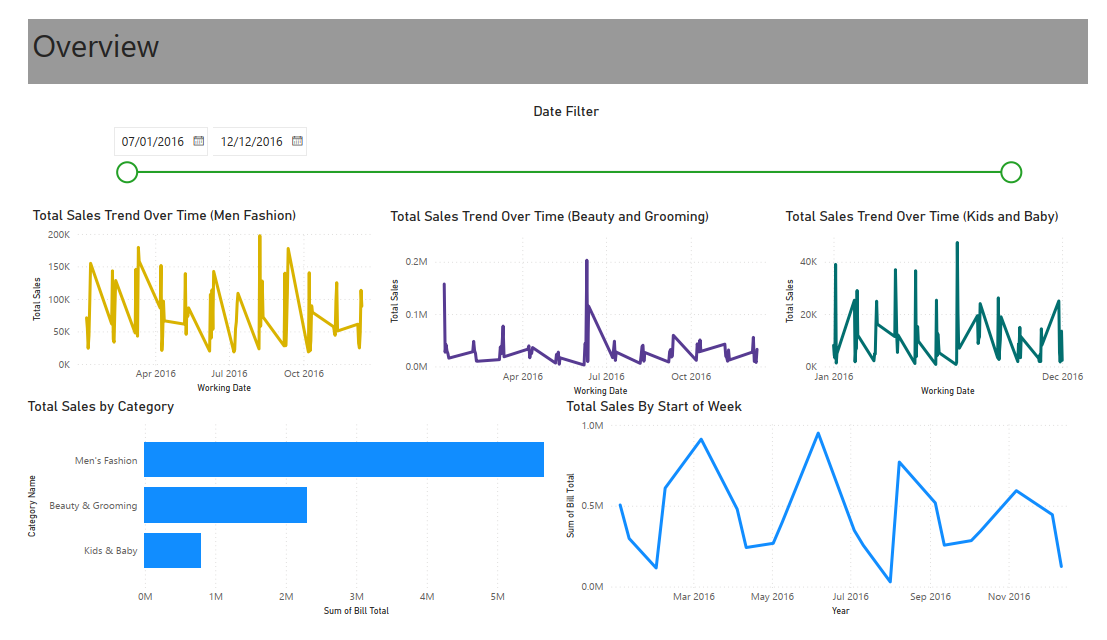

This screenshot's page, from the dashboard's own definition file:
{"tool":"powerbi","page":{"name":"Overview","canvas":[1280,720],"ordinal":0},"visuals":[{"type":"textbox","box":[9.6,0,1270.7,76.8],"z":0},{"type":"barChart","title":"Total Sales by Category","fields":{"Category":["Pakistan Largest Ecommerce Dataset.Category Name"],"Y":["Sum(Pakistan Largest Ecommerce Dataset.Bill Total)"]},"box":[4.1,452.8,666.9,267.6],"z":1000},{"type":"lineChart","title":"Total Sales By Start of Week","fields":{"Y":["Sum(Pakistan Largest Ecommerce Dataset.Bill Total)"],"Category":["Calender (3).Start of Week.Variation.Date Hierarchy.Year","Calender (3).Start of Week.Variation.Date Hierarchy.Quarter","Calender (3).Start of Week.Variation.Date Hierarchy.Month","Calender (3).Start of Week.Variation.Date Hierarchy.Day"]},"box":[650.4,452.8,629.8,267.6],"z":2000},{"type":"lineChart","title":"Total Sales Trend Over Time (Men Fashion)","fields":{"Y":["Pakistan Largest Ecommerce Dataset.Total Sales"],"Category":["Pakistan Largest Ecommerce Dataset.Working Date.Variation.Date Hierarchy.Year"]},"box":[9.6,223.7,429.5,229.2],"z":3000},{"type":"lineChart","title":"Total Sales Trend Over Time (Beauty and Grooming)","fields":{"Y":["Pakistan Largest Ecommerce Dataset.Total Sales"],"Category":["Pakistan Largest Ecommerce Dataset.Working Date.Variation.Date Hierarchy.Year"]},"box":[439.1,226.4,473.4,229.2],"z":4000},{"type":"lineChart","title":"Total Sales Trend Over Time (Kids and Baby)","fields":{"Y":["Pakistan Largest Ecommerce Dataset.Total Sales"],"Category":["Pakistan Largest Ecommerce Dataset.Working Date.Variation.Date Hierarchy.Year"]},"box":[912.5,226.4,367.8,229.2],"z":5000},{"type":"slicer","title":"Date Filter","fields":{"Values":["Pakistan Largest Ecommerce Dataset.created_at"]},"box":[100.2,100.2,1110.1,108.4],"z":6000}]}

Visuals, with their boxes in screenshot pixels (x1, y1, x2, y2), scaled from the page's 1280x720 canvas onto the 1107x640 screenshot:
textbox: x1=8, y1=0, x2=1106, y2=68
"Total Sales by Category" barChart: x1=4, y1=402, x2=580, y2=639
"Total Sales By Start of Week" lineChart: x1=562, y1=402, x2=1106, y2=639
"Total Sales Trend Over Time (Men Fashion)" lineChart: x1=8, y1=199, x2=380, y2=403
"Total Sales Trend Over Time (Beauty and Grooming)" lineChart: x1=380, y1=201, x2=789, y2=405
"Total Sales Trend Over Time (Kids and Baby)" lineChart: x1=789, y1=201, x2=1106, y2=405
"Date Filter" slicer: x1=87, y1=89, x2=1047, y2=185
